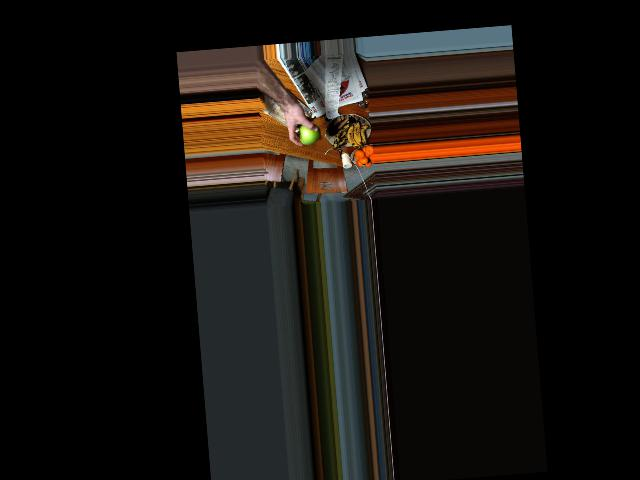apple: (297, 119, 320, 146)
